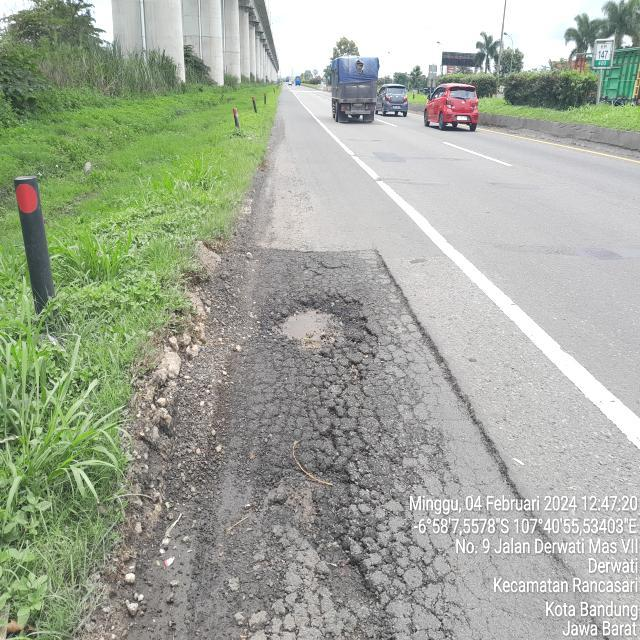Buraco: (256, 457, 384, 609), (264, 292, 378, 362)
